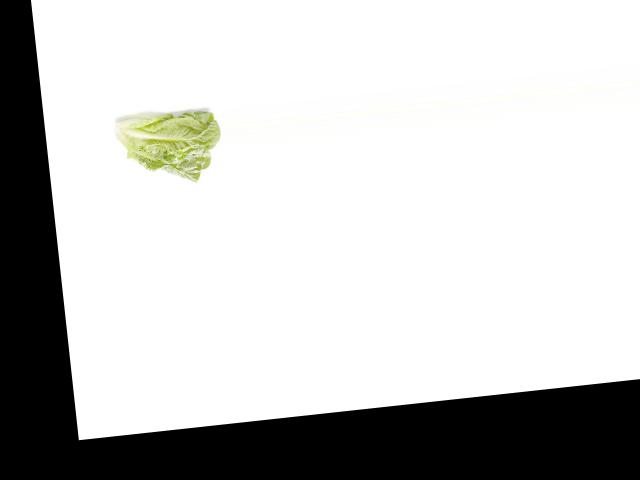lettuce: (107, 91, 225, 191)
